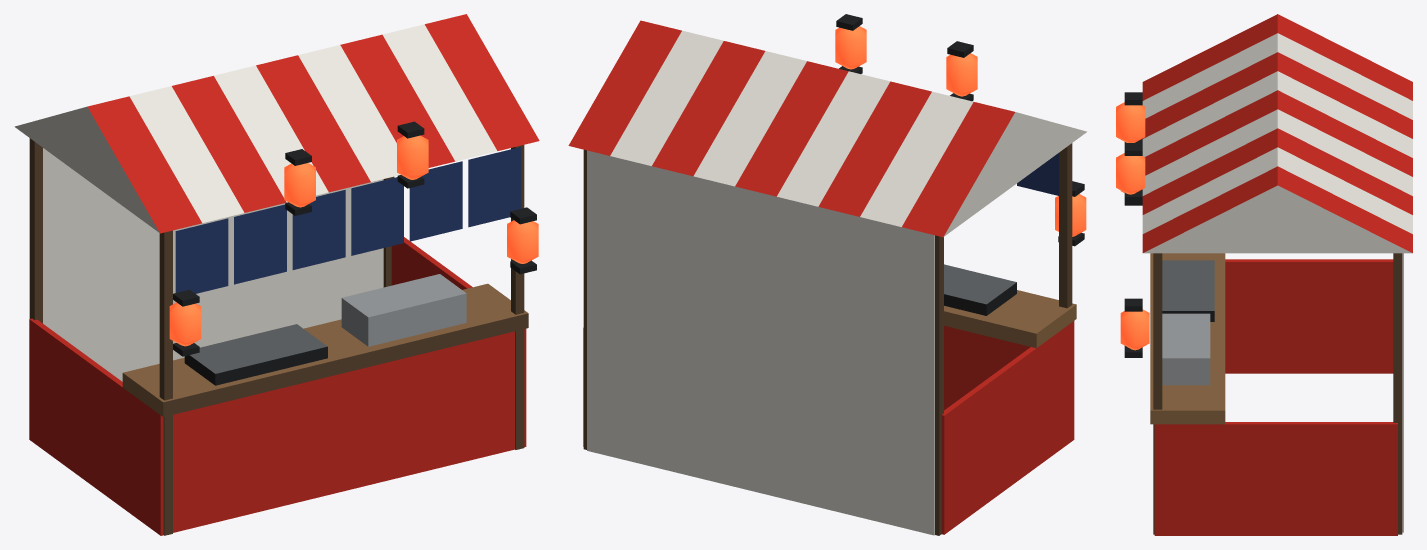
Rendered from tokyo_yatai.glb.
The picture shows the model from 3 angles, left to right: view 1: azimuth 30°, elevation 25°; view 2: azimuth 150°, elevation 25°; view 3: azimuth 270°, elevation 25°; orthographic projection. The views are drawn at different scales.
Visible parts, largest first — view 1: tokyo_yatai; view 2: tokyo_yatai; view 3: tokyo_yatai.
Boxes of the visible parts, x1,y1,x2,y2 form: tokyo_yatai: [14, 14, 539, 535]; tokyo_yatai: [568, 14, 1086, 535]; tokyo_yatai: [1116, 14, 1412, 535].
Bounding box in the file's own units: 2.7 × 2.6 × 1.98.
1 material, 1 textured.
